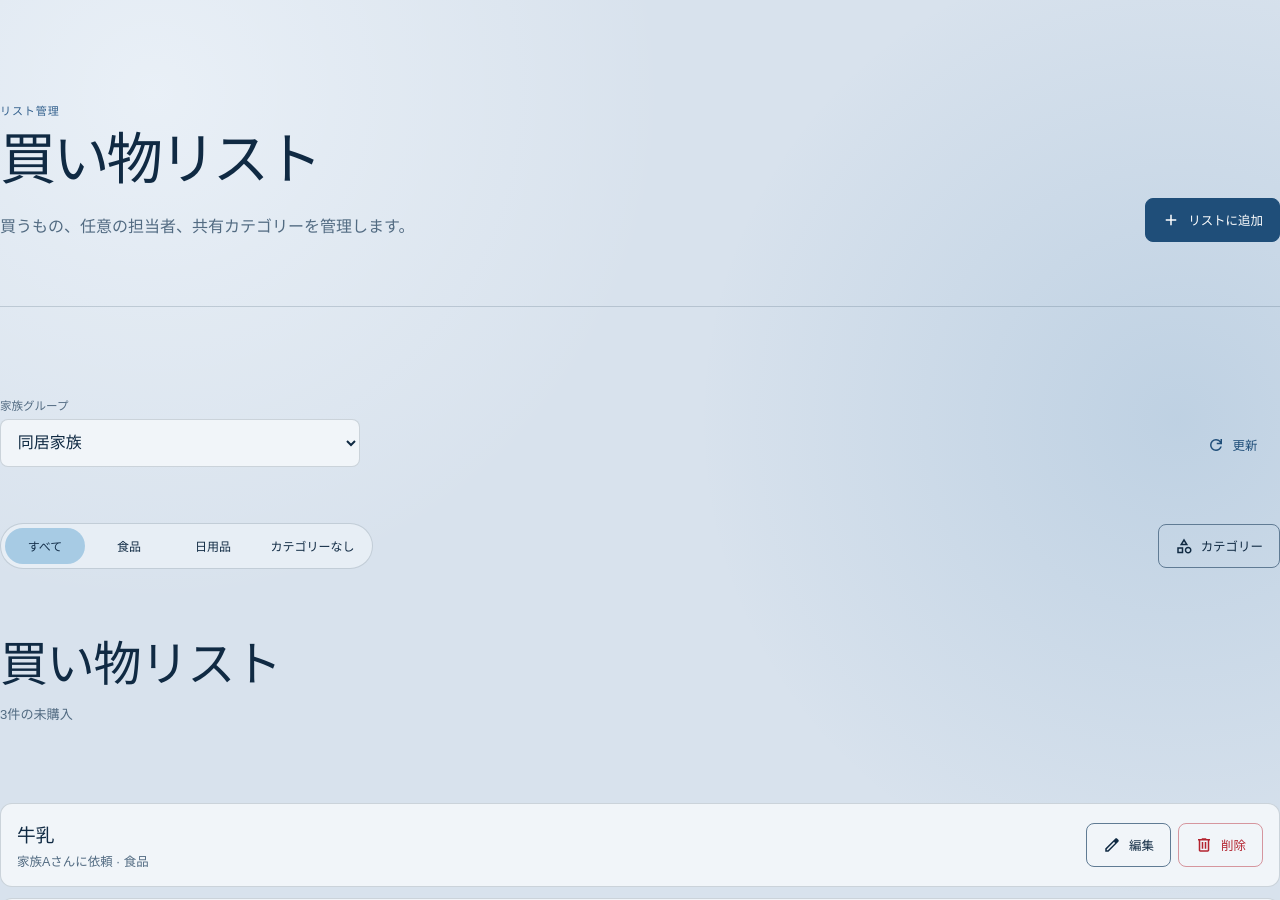
it: ShoppingListPage › opens an existing item in the edit dialog
The width and height of the screenshot is (1280, 900).
Click the button with aria-label "牛乳を編集". click: (1128, 845)
box: [1086,823,1171,867]
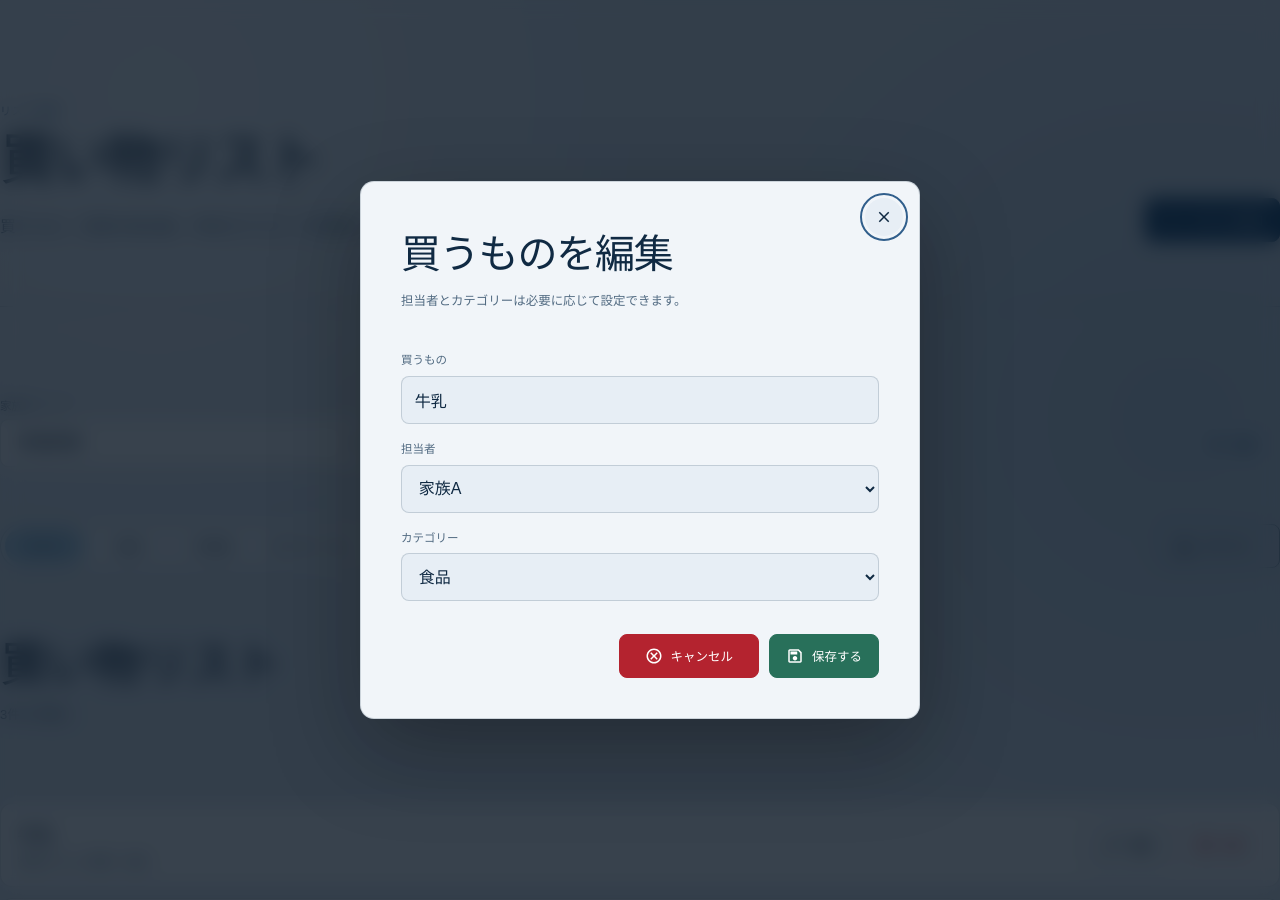
Now the dialog "買うものを編集" is shown
Now the field labelled "買うもの" holds "牛乳", box [401,376,879,424]
Now the dropdown labelled "担当者" shows "家族A", box [401,465,879,513]
